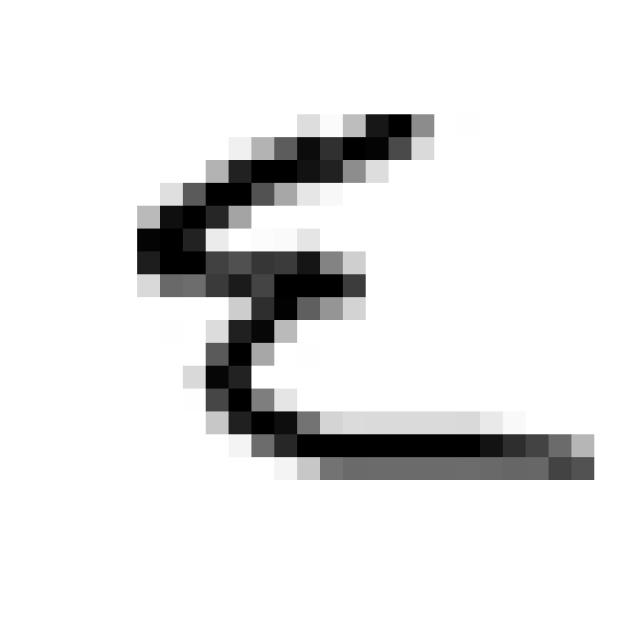4 -four-: (116, 87, 612, 504)
